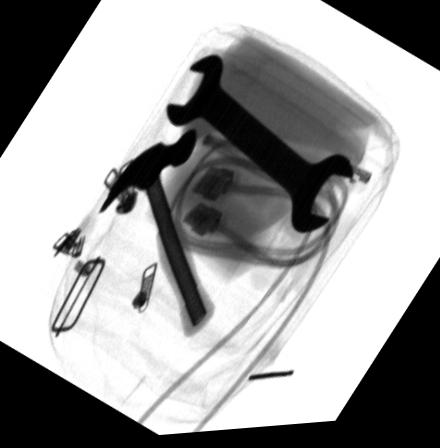Hammer: (98, 131, 215, 340)
Wrench: (164, 57, 352, 238)
